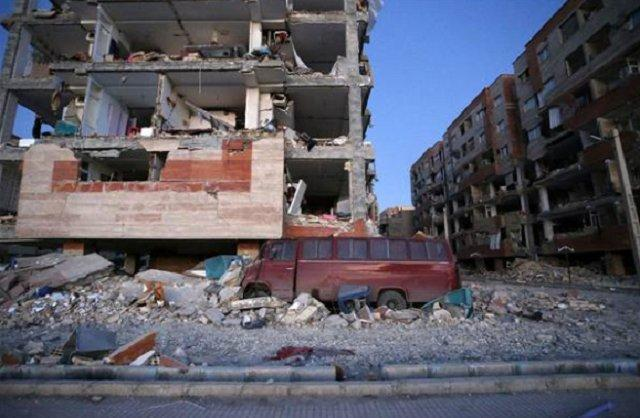destroyed: (2, 0, 378, 237)
